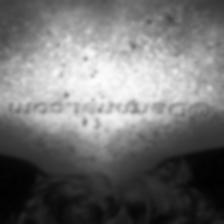Non-Cancerous Skin Condition: (81, 116, 103, 130), (164, 12, 174, 24), (62, 92, 72, 100)
